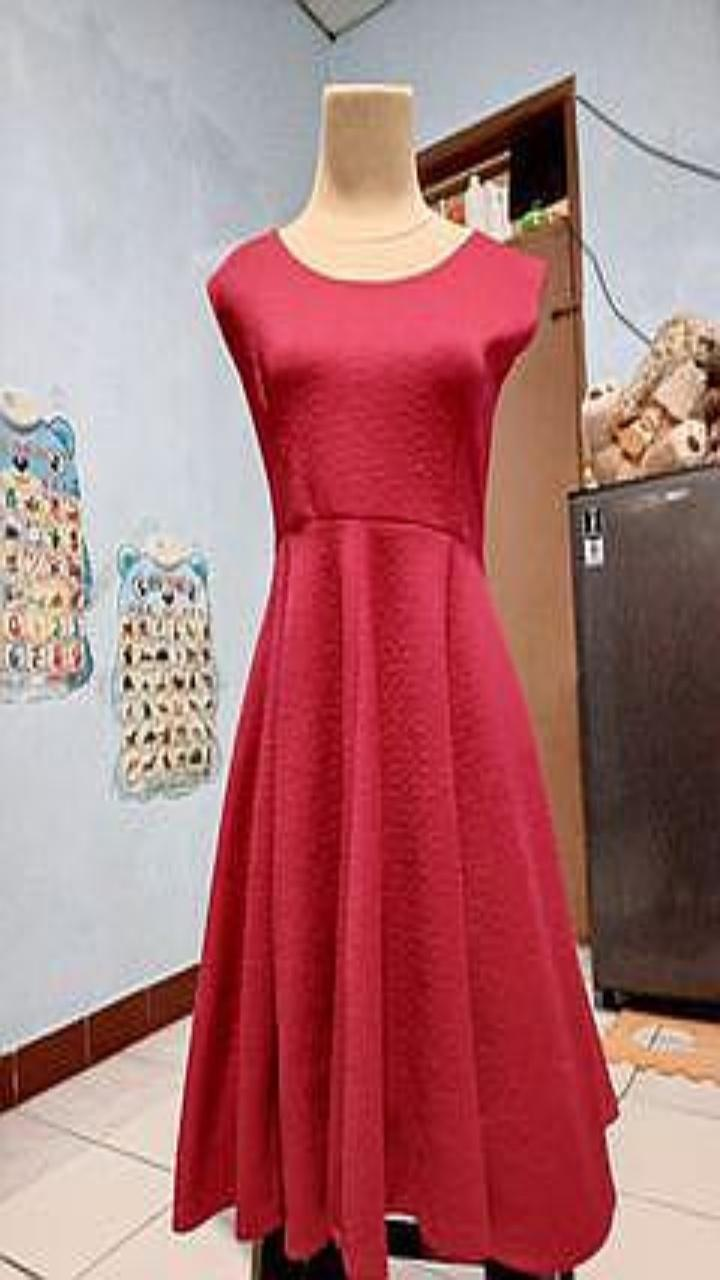Dresses: (172, 229, 617, 1279)
